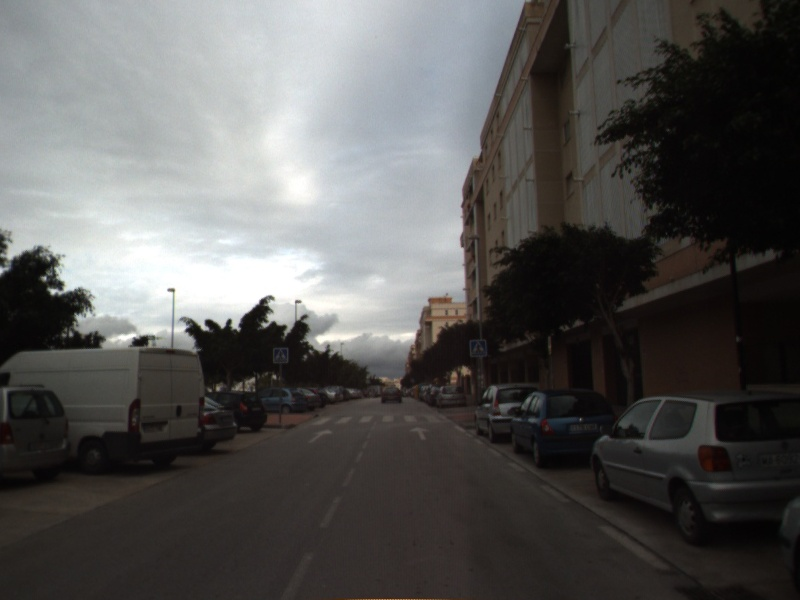STRAIGHT: (306, 427, 335, 445), (408, 424, 431, 442)
